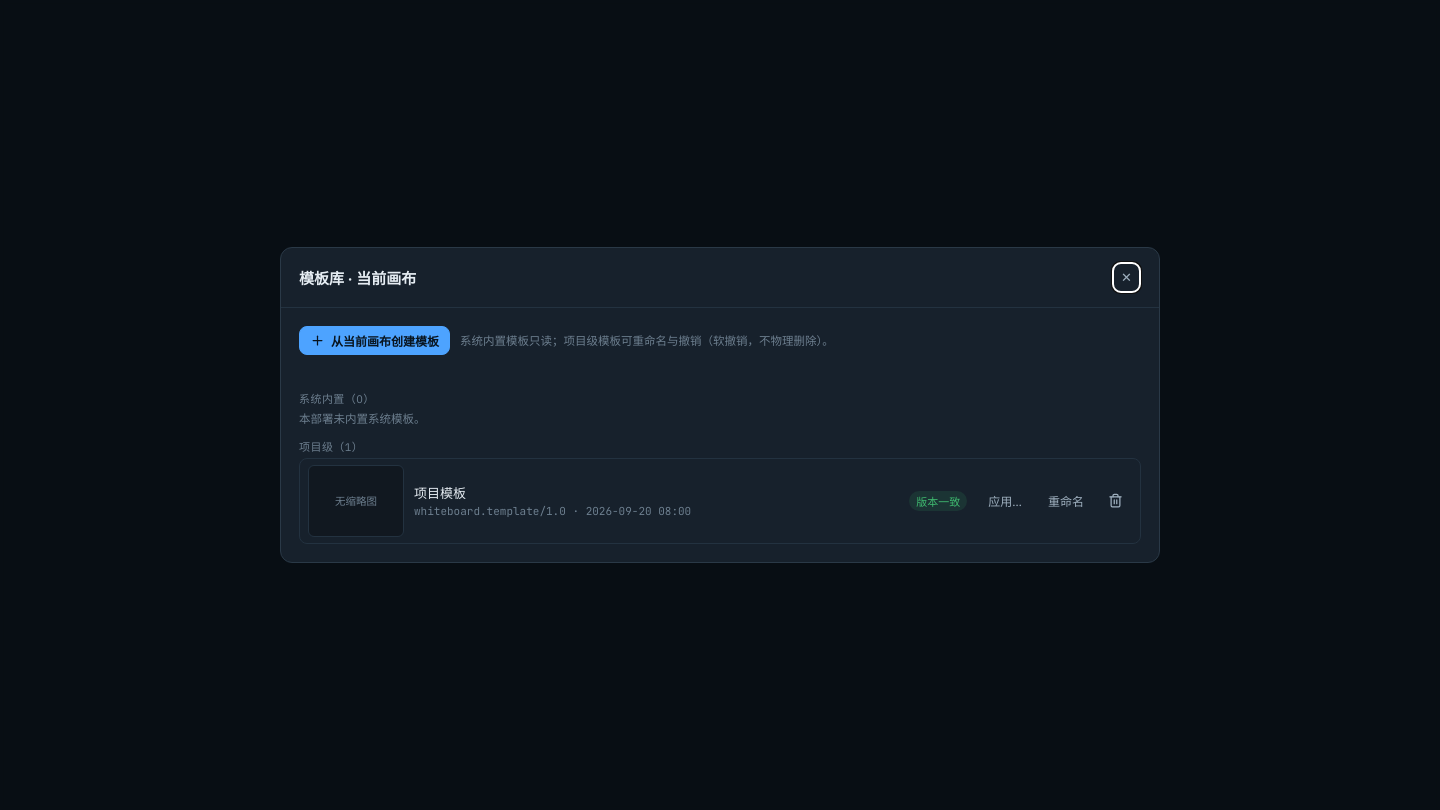
Test case: UI-TMP-03 应用确认与结果提示 › replace 对主画布/含交付数据画布禁用并给出原因
Click the button "应用…": (1005, 501) left=977, top=486, right=1033, bottom=515
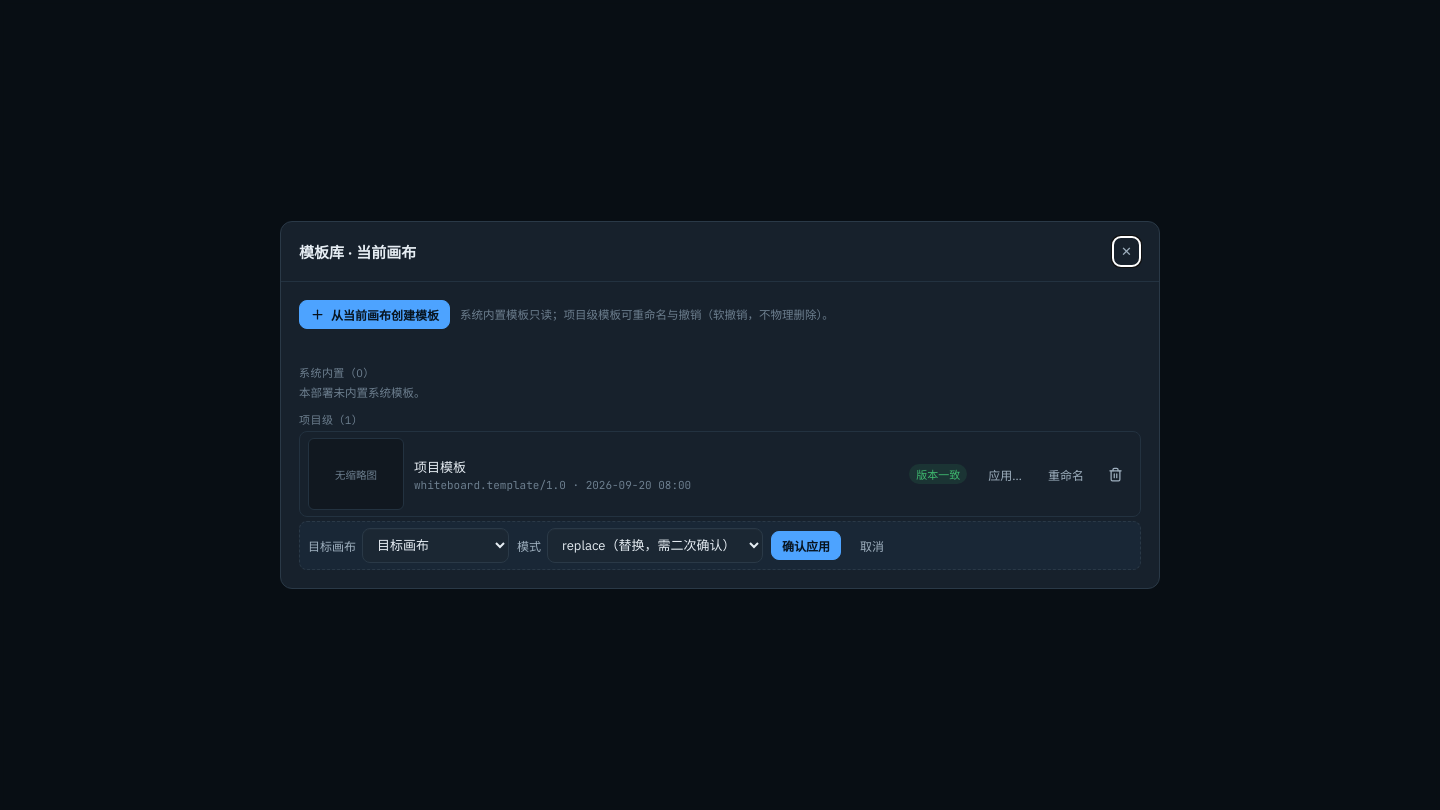
Select "replace（替换，需二次确认）" in the dropdown named "应用模式": (655, 546) left=547, top=528, right=763, bottom=563
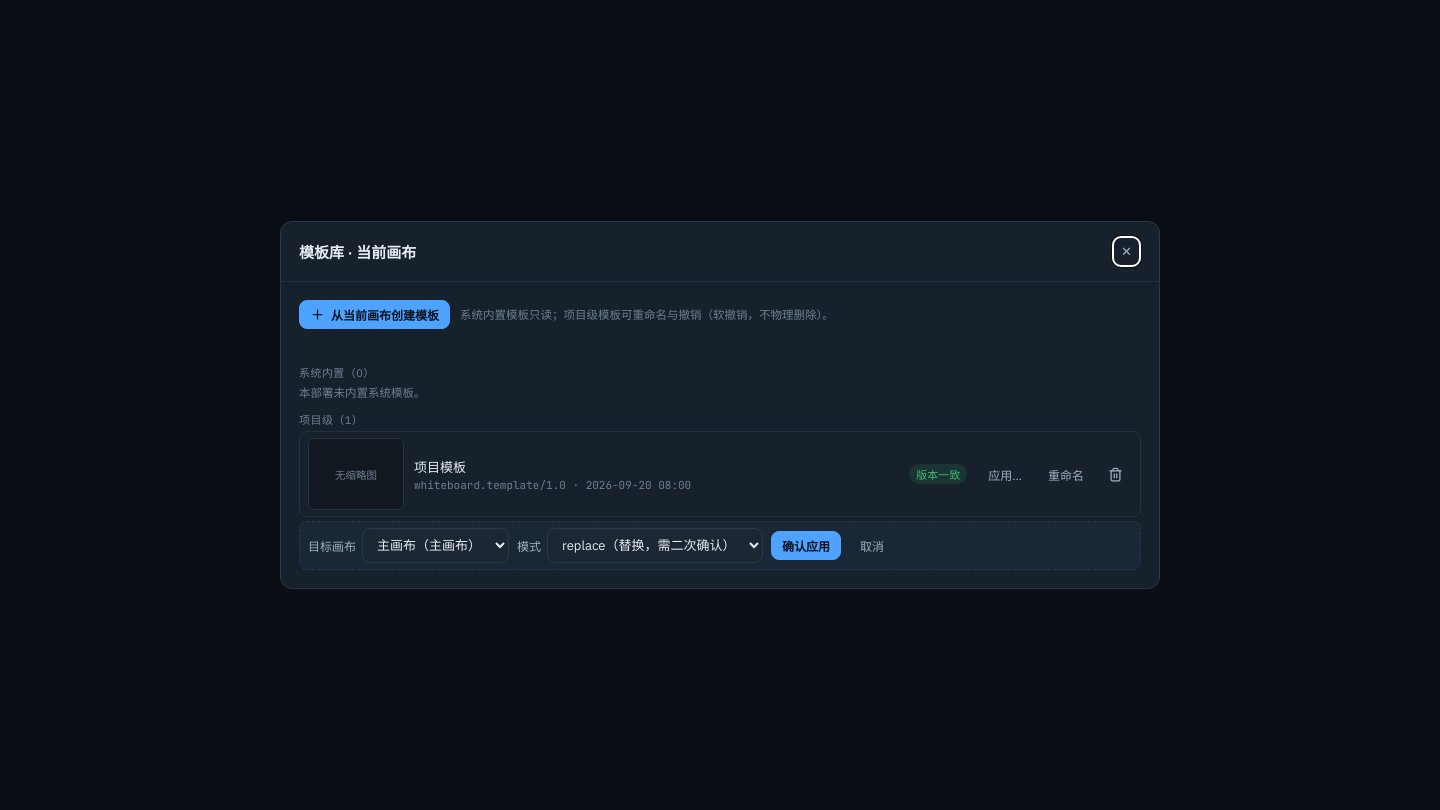
Select "主画布（主画布）" in the dropdown named "目标画布": (436, 546) left=362, top=528, right=509, bottom=563
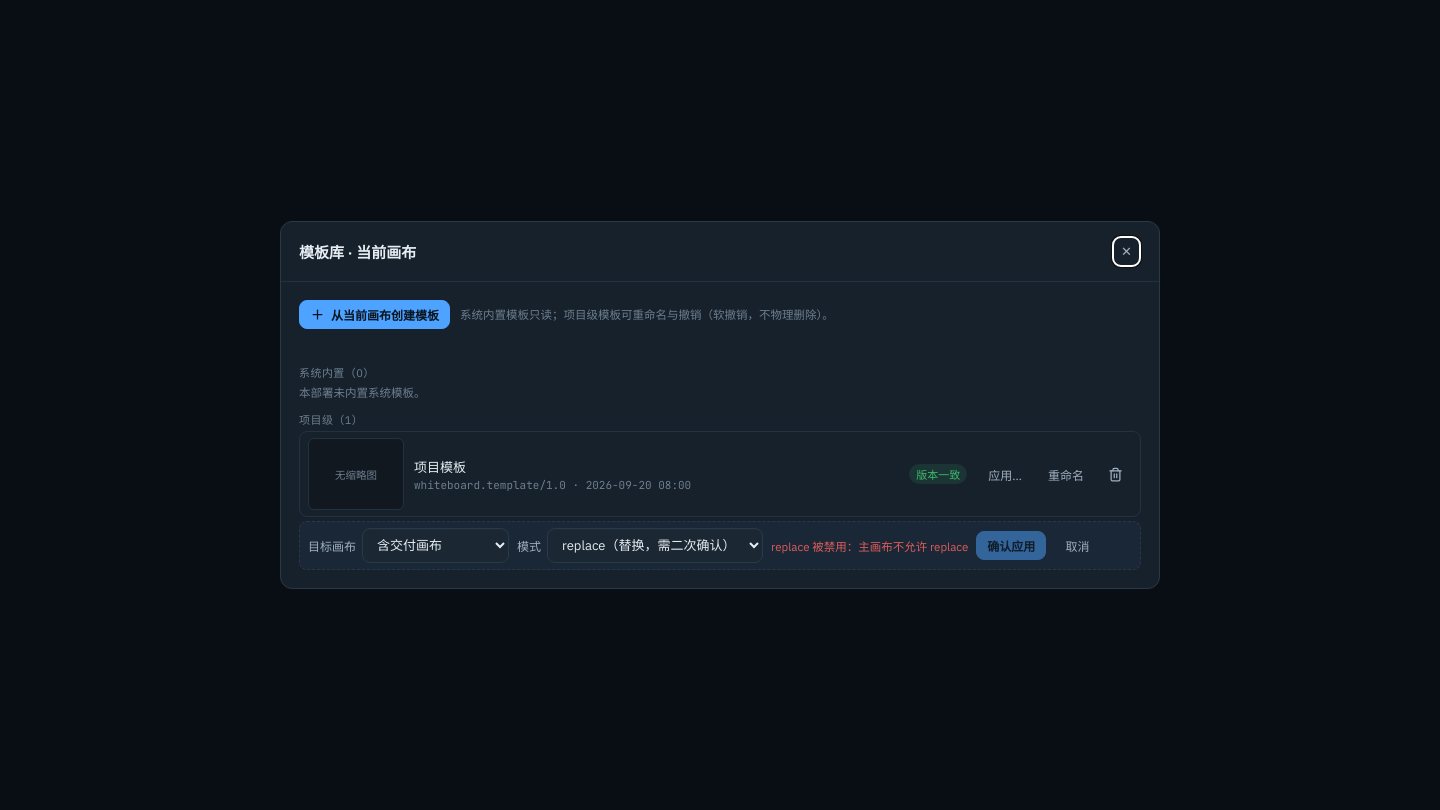
Expected: the text with class "template-block" shows "主画布不允许 replace", left=771, top=539, right=968, bottom=554
Expected: the button "确认应用" is disabled, left=976, top=531, right=1046, bottom=560
Select "含交付画布" in the dropdown named "目标画布": (436, 546) left=362, top=528, right=509, bottom=563
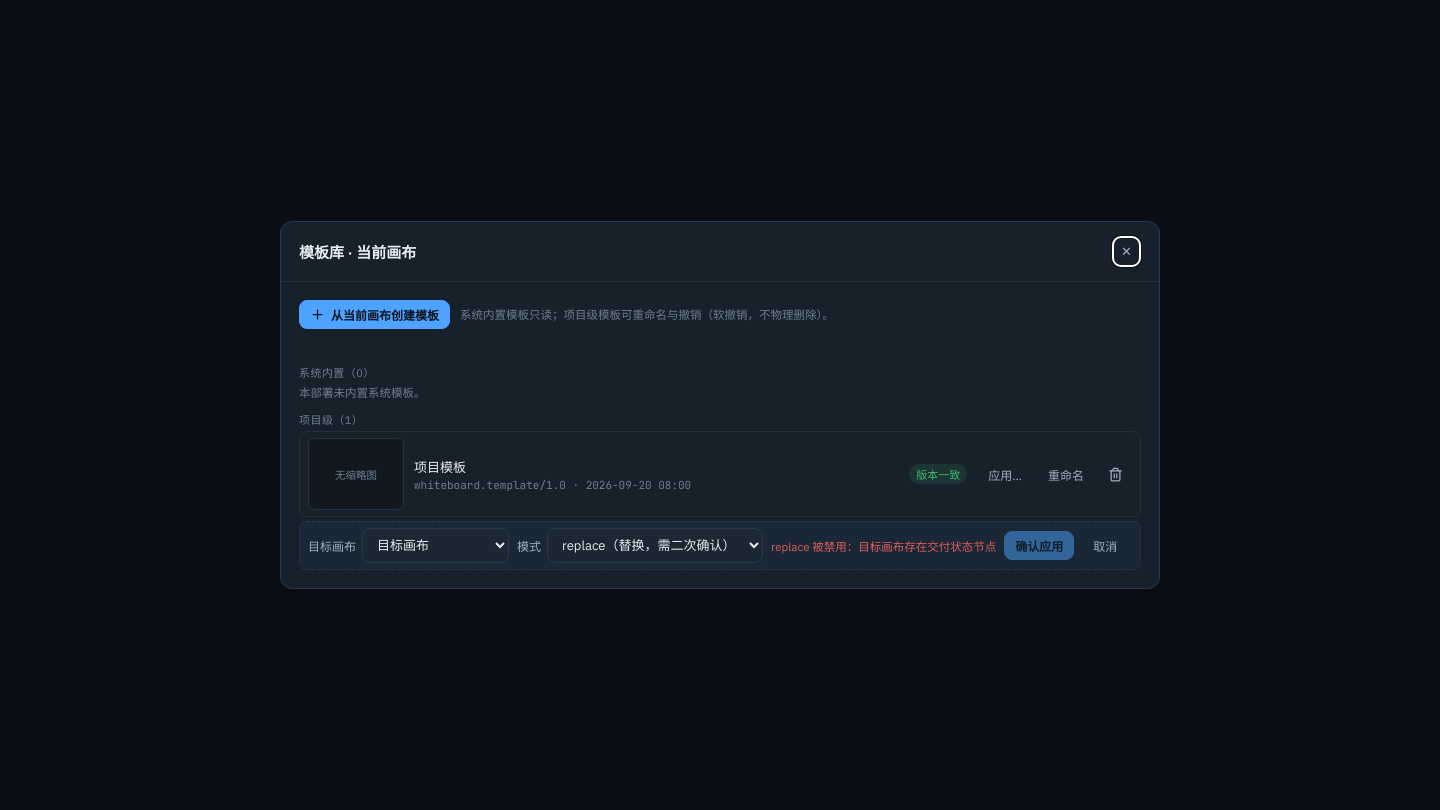
Expected: the button "确认应用" is disabled, left=1004, top=531, right=1074, bottom=560
Expected: the text with class "template-block" shows "交付状态节点", left=771, top=539, right=996, bottom=554
Select "目标画布" in the dropdown named "目标画布": (436, 546) left=362, top=528, right=509, bottom=563
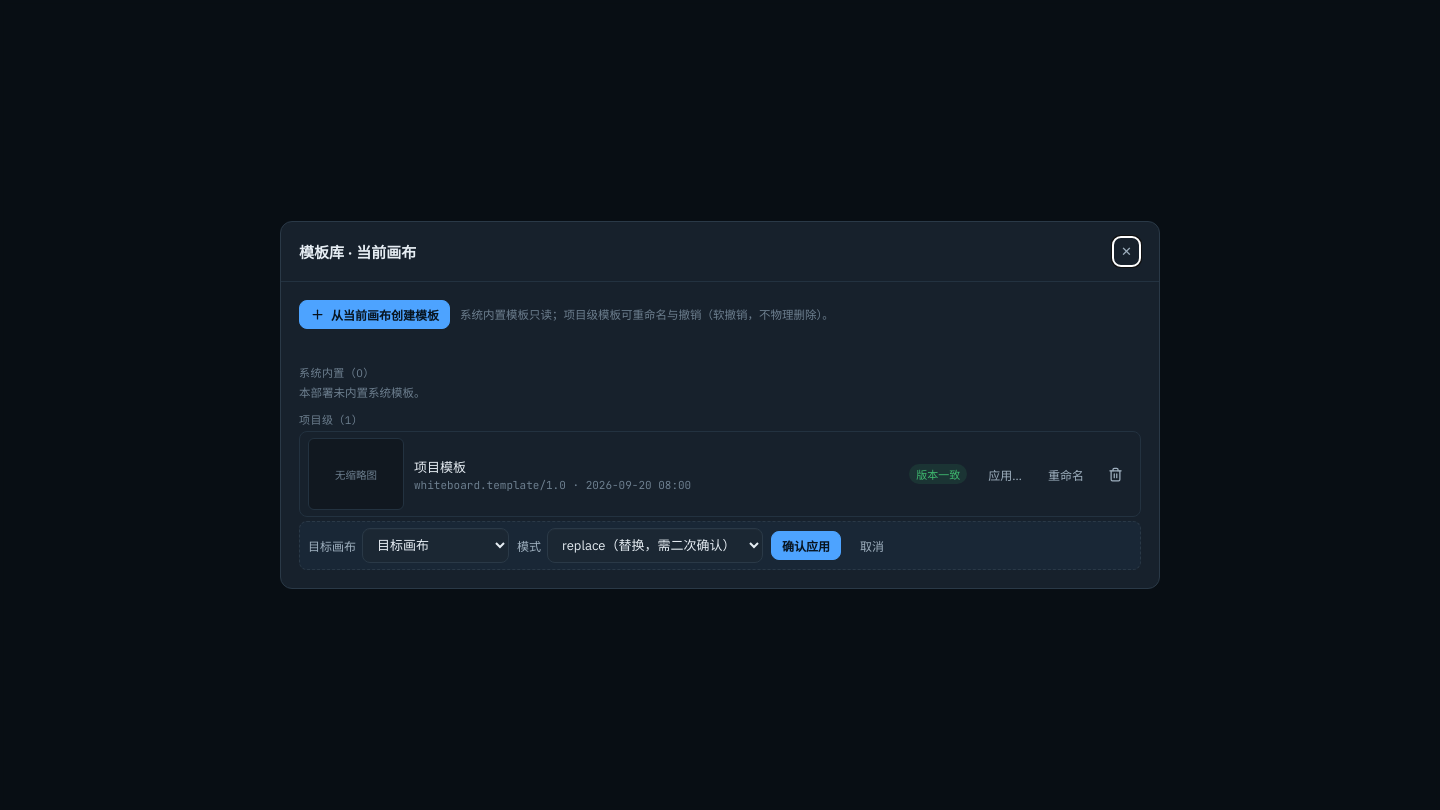
Expected: the text with class "template-block" is gone
Expected: the button "确认应用" is enabled, left=771, top=531, right=841, bottom=560
